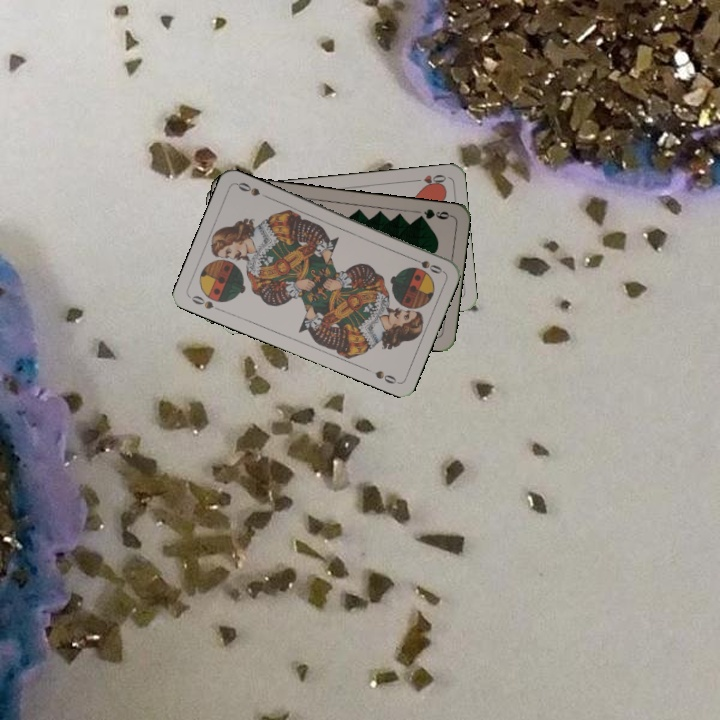G9: (413, 205, 454, 223)
HO: (409, 170, 449, 189)
SO: (406, 253, 445, 276), (187, 291, 225, 314)
